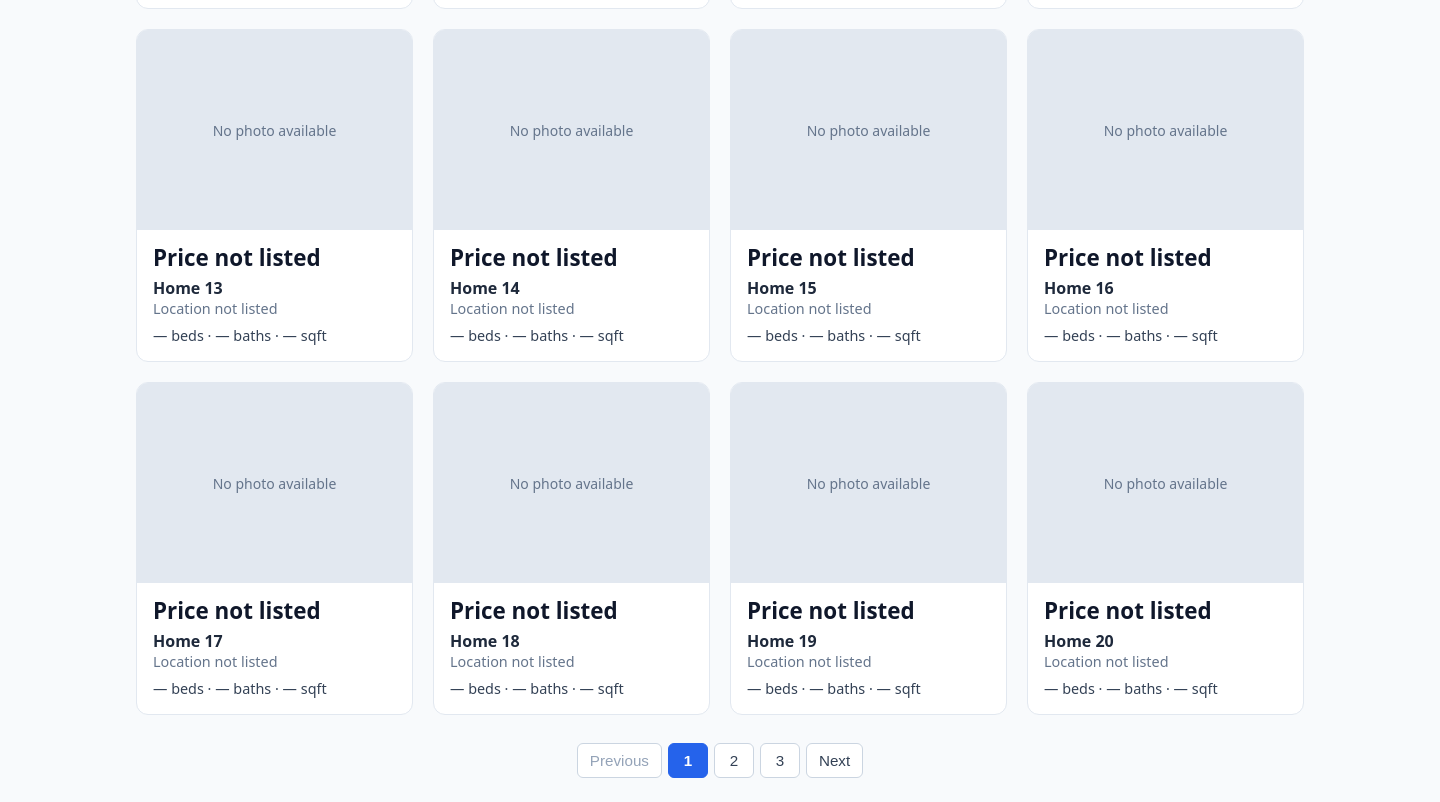
Test case: the summary shows the range of the current page
(page scrolled)
Click the button named "Page 2" at (734, 760), box [714,743,754,778]
(page scrolled)
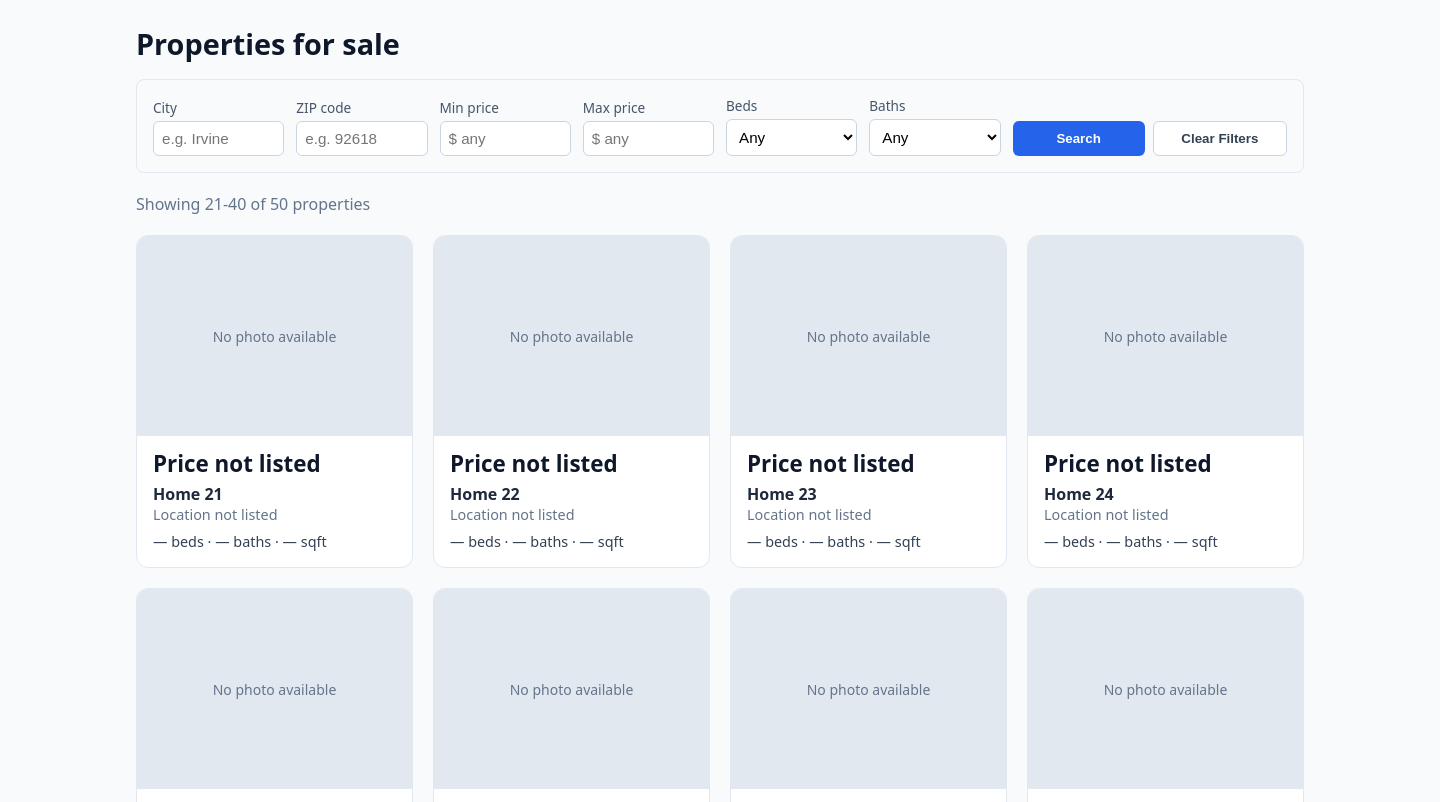
expect the text "Showing 21-40 of 50 properties" is shown: met, box [136,193,370,215]
